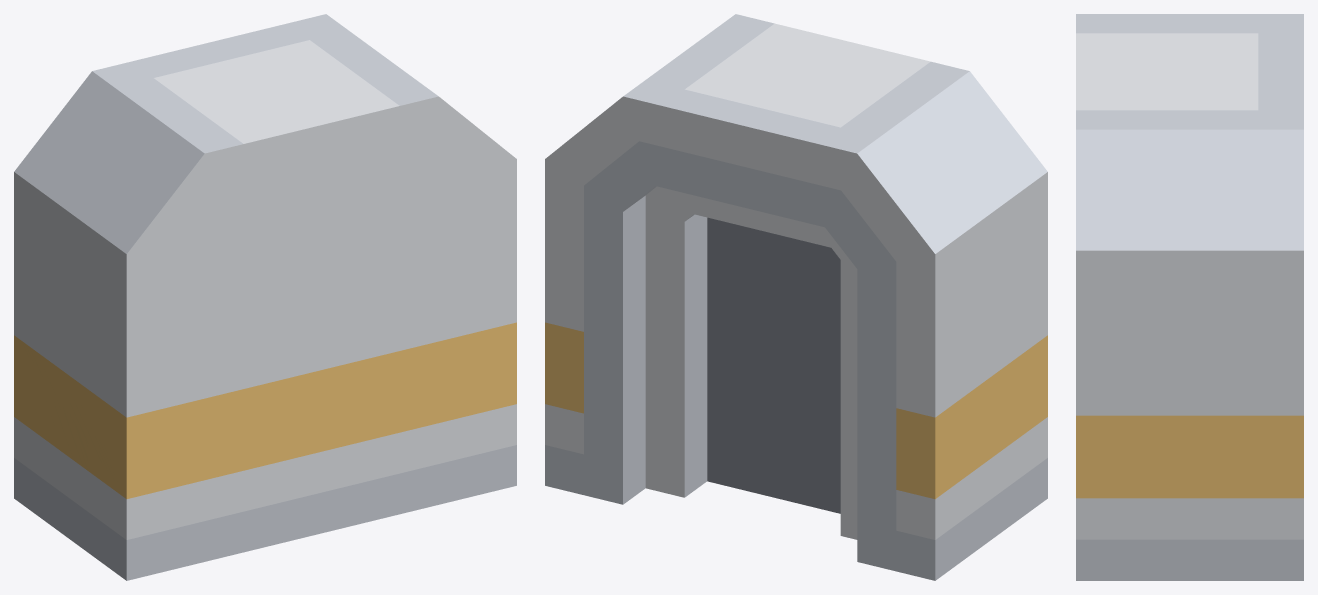
File: corridor_end.glb
3 views of the same model, side by side, from view 1: azimuth 30°, elevation 25°; view 2: azimuth 150°, elevation 25°; view 3: azimuth 270°, elevation 25° (orthographic).
Parts seen in each view (by area): view 1: corridor_end; view 2: corridor_end; view 3: corridor_end.
Part boxes in pixels (x1,y1,x2,y2): corridor_end: (14,14,516,580); corridor_end: (545,14,1047,580); corridor_end: (1076,14,1303,580).
Bounding box in the file's own units: 1 × 1 × 0.5.
